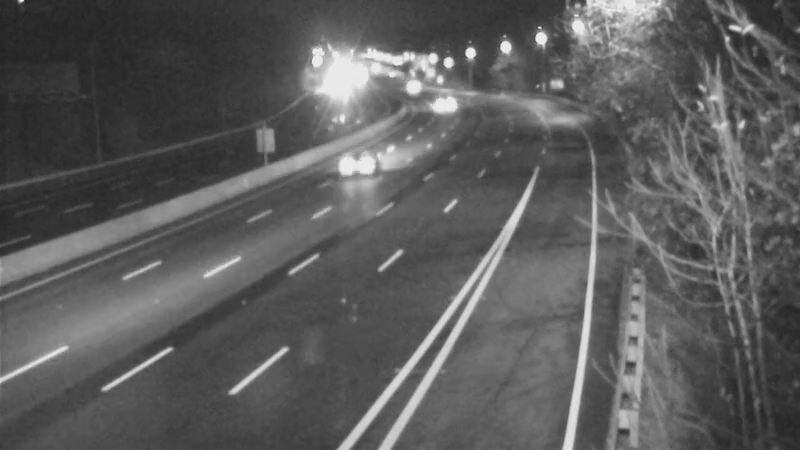vehicle: (318, 127, 398, 207), (389, 61, 439, 111), (422, 77, 472, 127)
